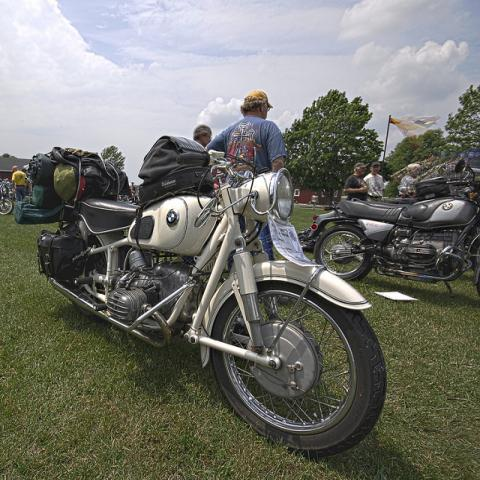motorcycle: (46, 147, 386, 456), (306, 166, 479, 298), (349, 163, 458, 207), (0, 181, 14, 215), (128, 194, 139, 204)
